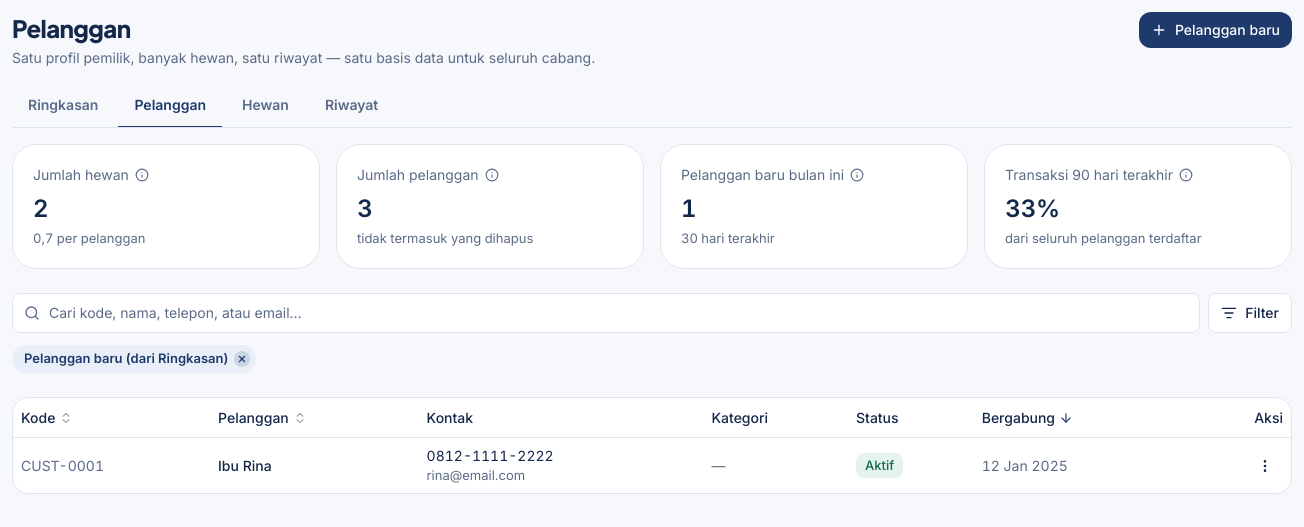
the "Pelanggan baru" chip, from the Ringkasan drill › rewrites the URL back to plain when the chip is cleared
Expected: the link "Ibu Rina" is shown, [218, 456, 272, 476]
Expected: the text "Pelanggan baru (dari Ringkasan)" is shown, [12, 345, 256, 373]
Click the button named "Hapus filter Pelanggan baru (dari Ringkasan)". click: (242, 359)
box: [234, 351, 250, 367]
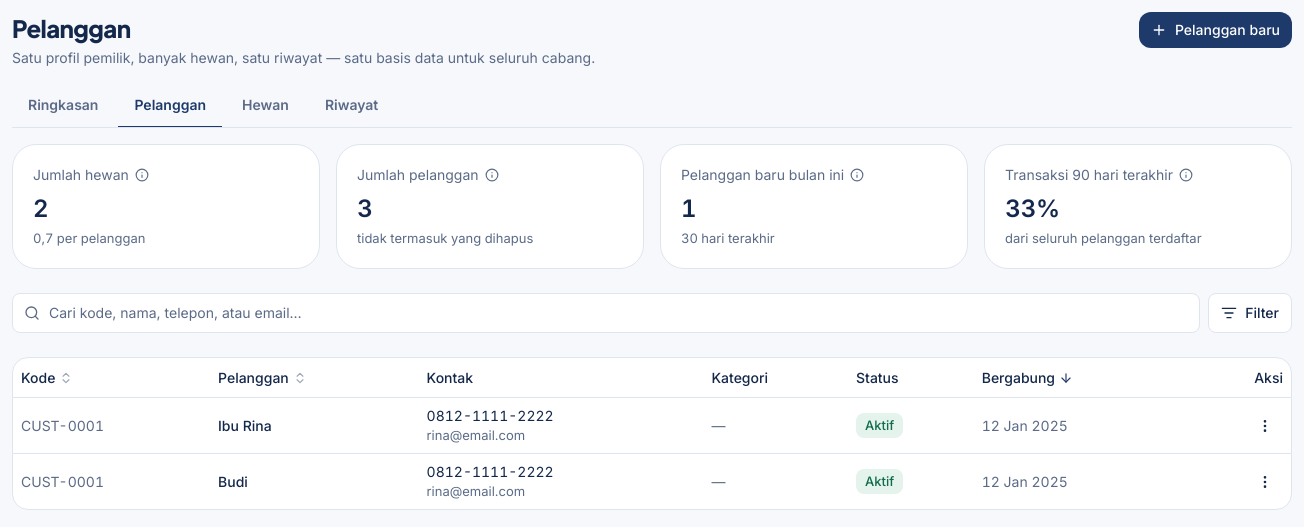
Expected: the link "Budi" is shown, [218, 472, 248, 492]
